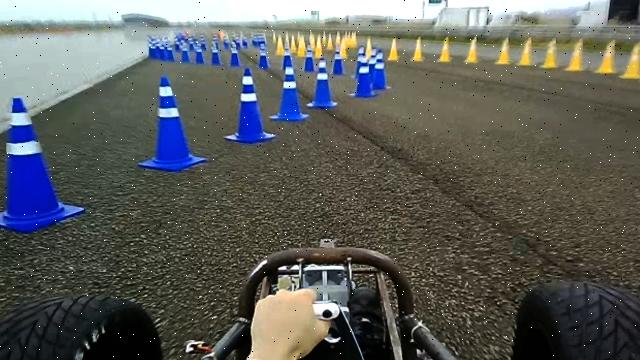blue cone: (0, 96, 85, 232), (138, 76, 208, 172), (223, 67, 276, 143), (268, 63, 309, 121), (306, 57, 337, 108), (356, 52, 372, 97), (372, 50, 388, 90)
yellow cone: (619, 41, 640, 79)
